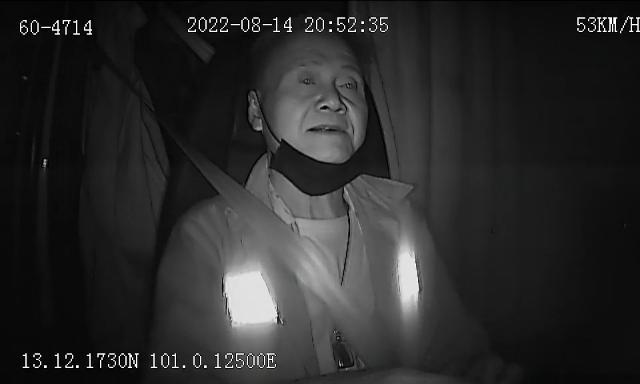SafeDriving: (293, 66, 323, 94), (332, 69, 362, 96)
Seatbelt: (174, 134, 372, 384)
